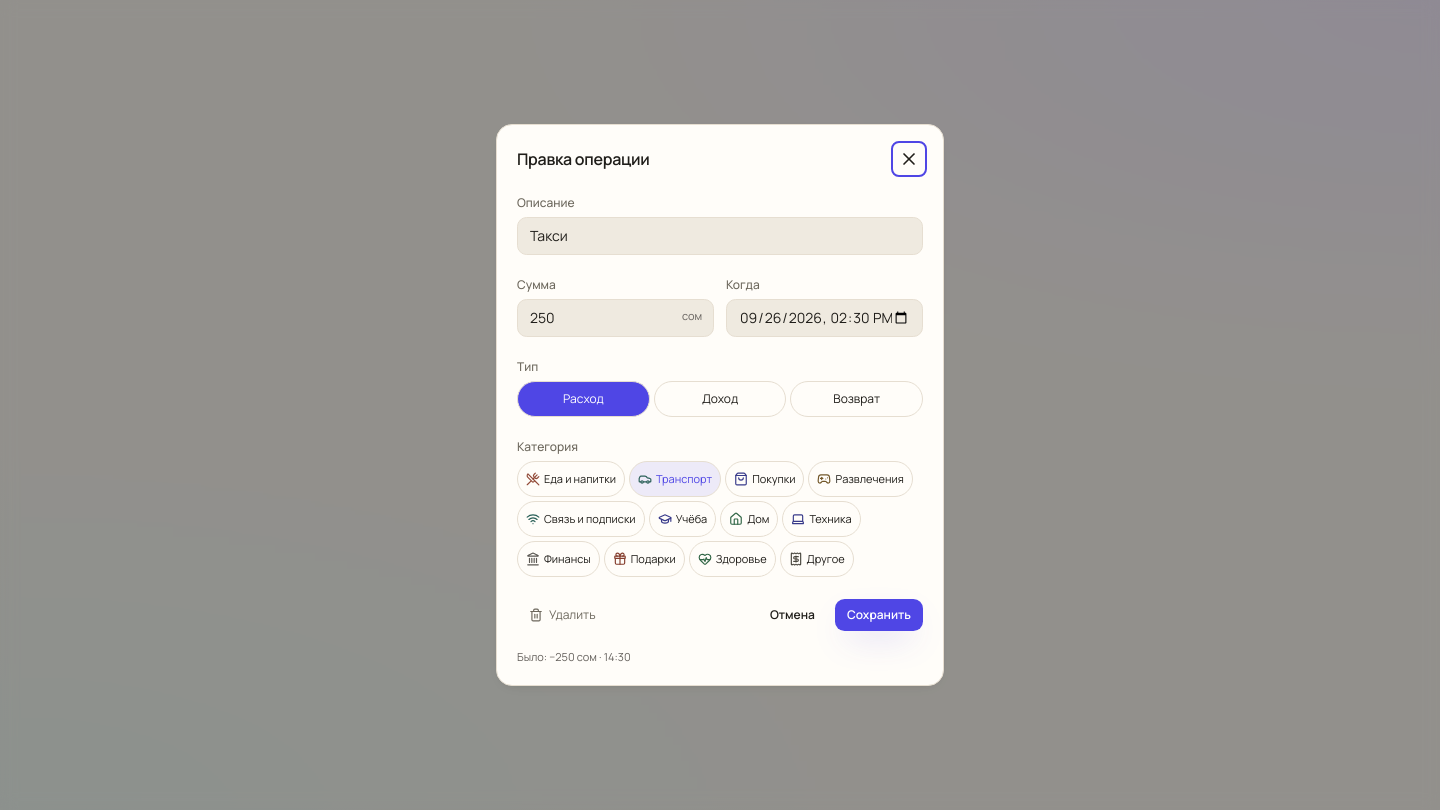
Test: Правка операции › не принимает пустое описание и нечисловую сумму
Clear the field labelled "Описание" at coordinates (720, 236), box [517,217,923,255]
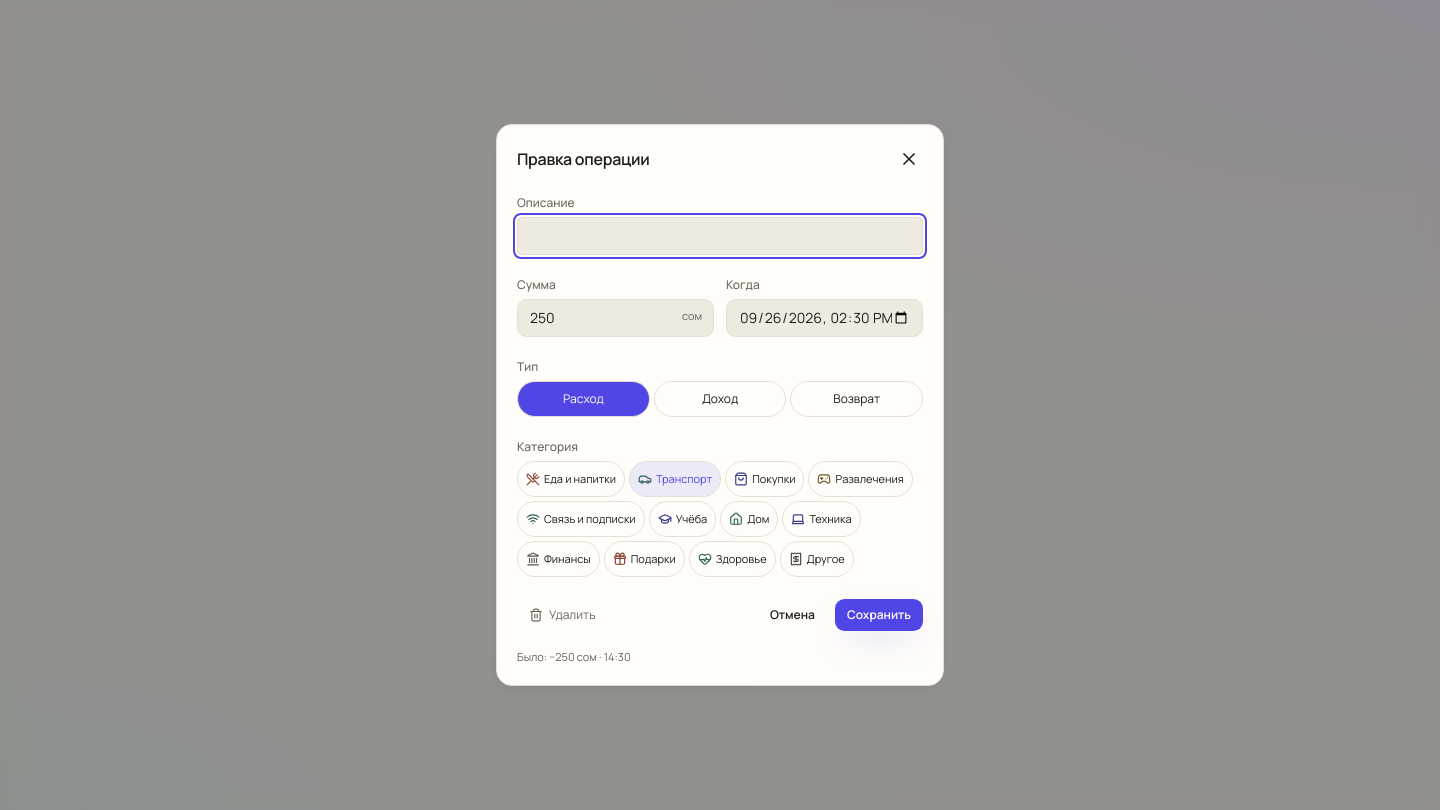
Click the button "Сохранить" at coordinates (879, 615), box [835,599,923,631]
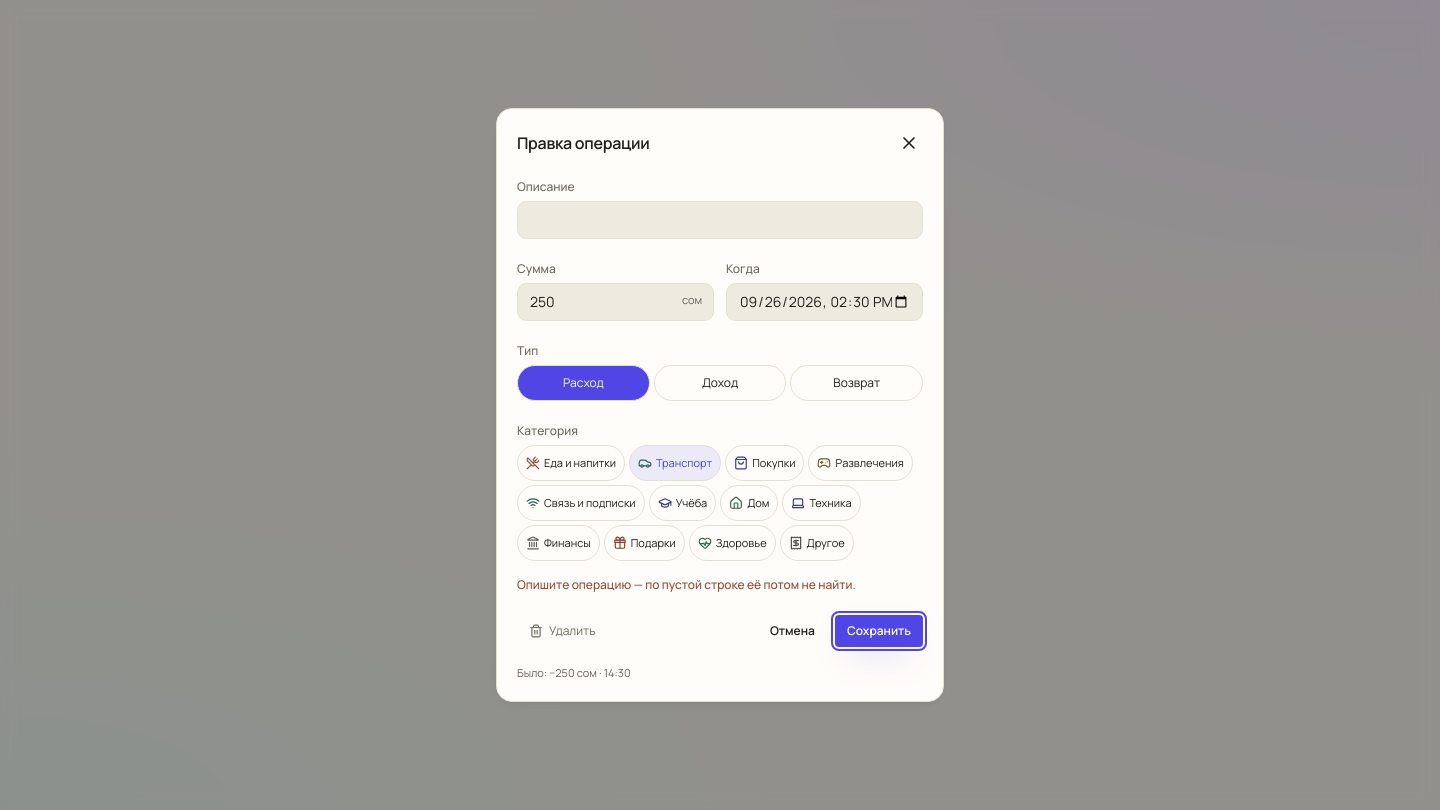
Expected: the message shows "Опишите операцию", [517,576,856,593]
Type "Такси" into the field labelled "Описание" at coordinates (720, 220), box [517,201,923,239]
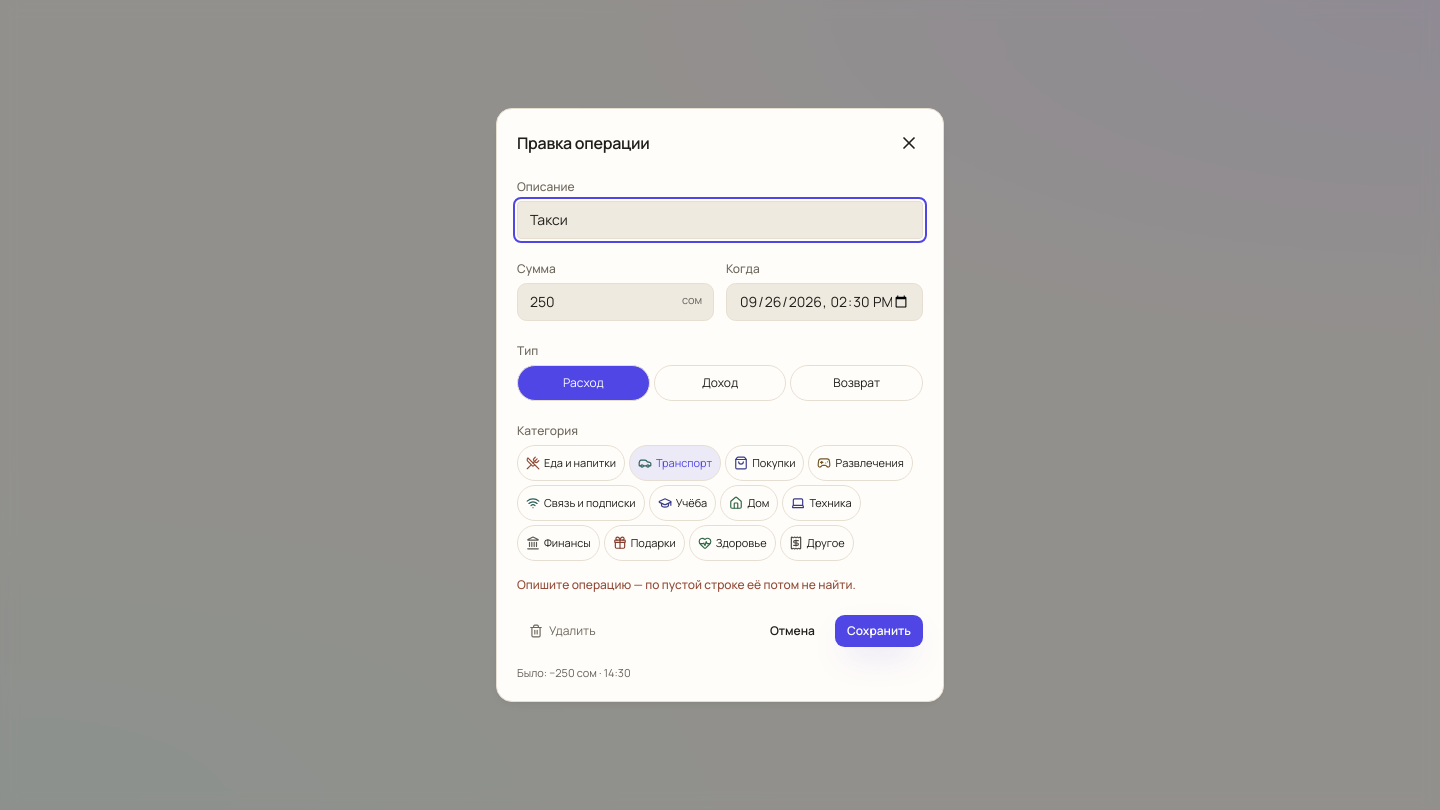
Replace the text in the field labelled "Сумма" with "около трёхсот" at coordinates (616, 302), box [517,283,714,321]
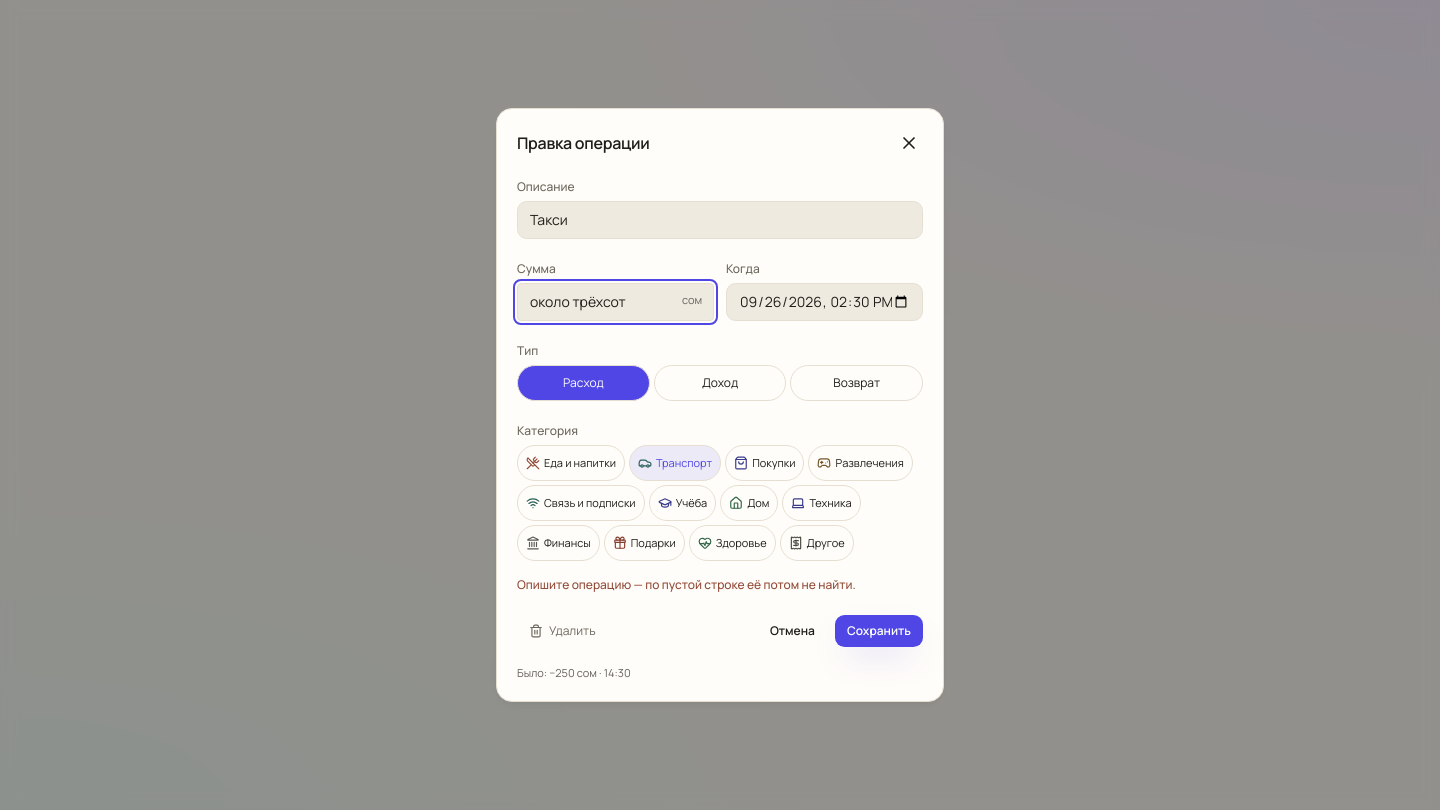
Click the button "Сохранить" at coordinates (879, 631), box [835,615,923,647]
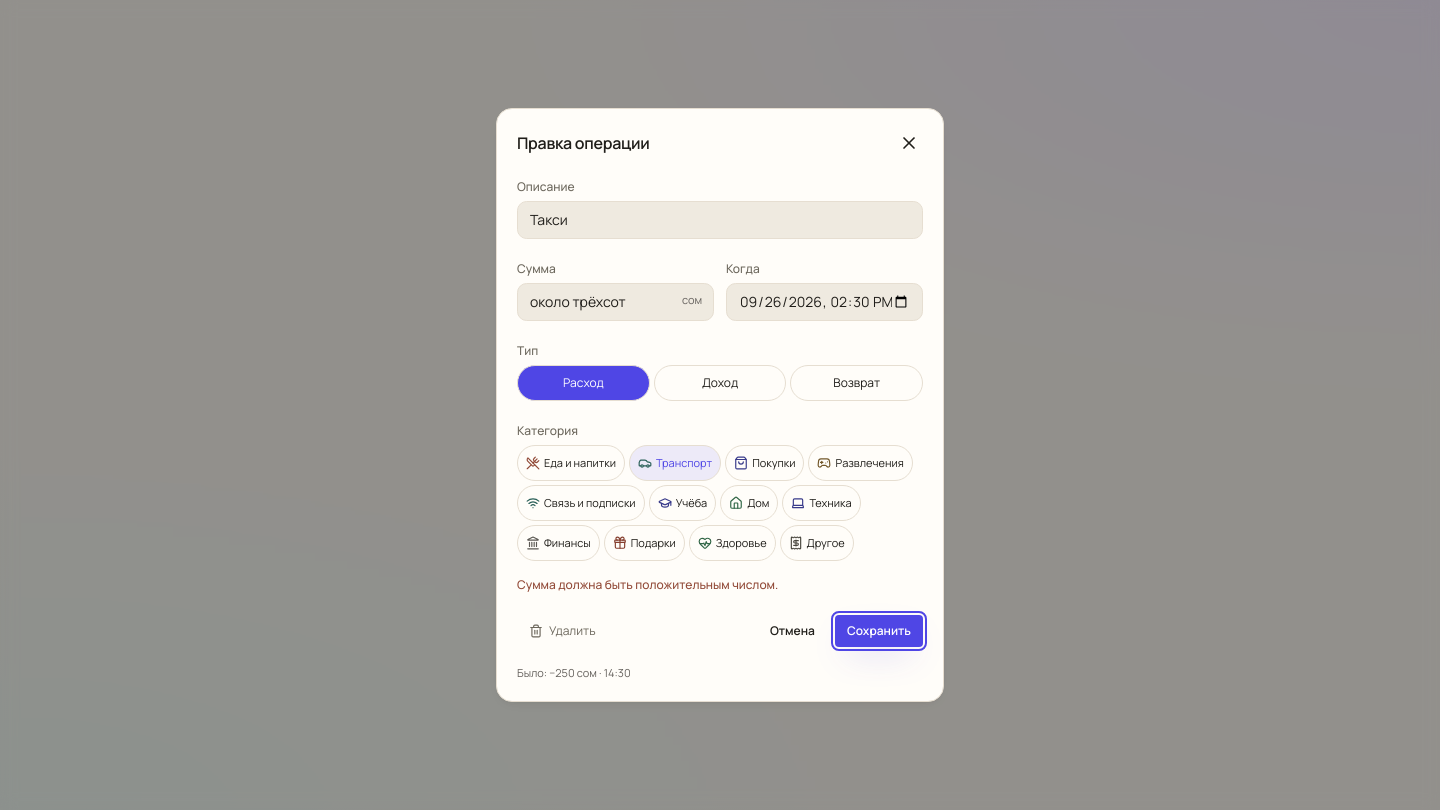
Expected: the message shows "положительным числом", [517,576,778,593]
